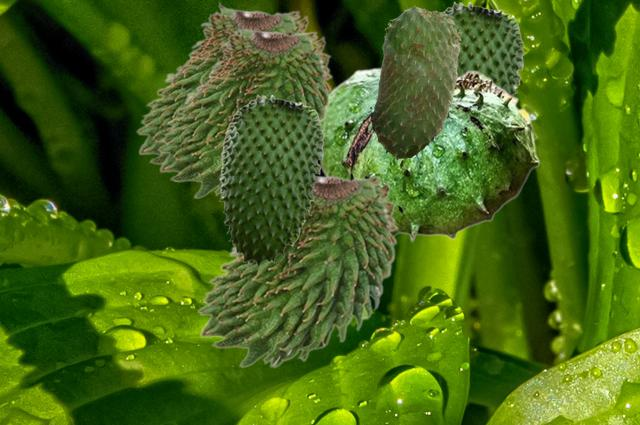guyabano: (196, 174, 398, 367), (319, 67, 539, 243), (156, 22, 332, 198), (135, 1, 309, 167), (219, 94, 323, 266), (369, 5, 461, 160), (443, 1, 523, 95)
